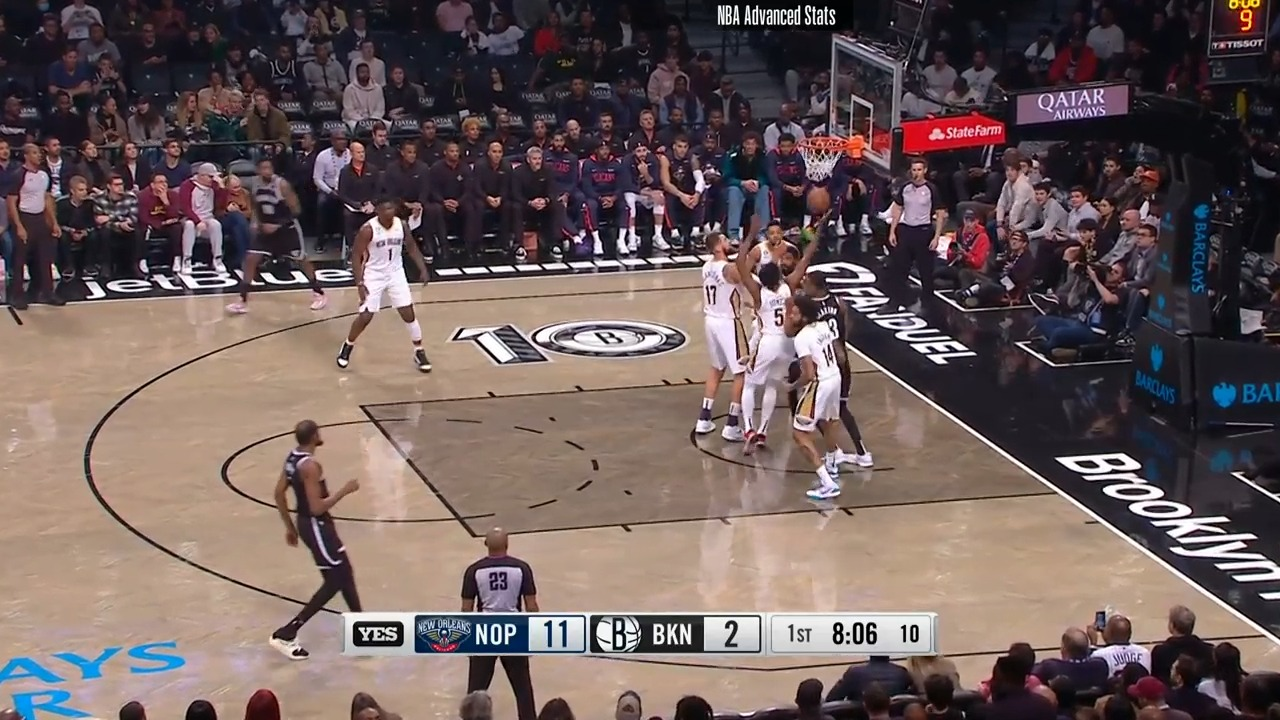net: (798, 128, 869, 187)
player: (264, 410, 373, 652), (340, 201, 438, 379), (231, 155, 330, 318), (695, 229, 761, 441), (805, 269, 873, 472), (732, 253, 800, 444), (787, 294, 847, 506), (739, 223, 811, 294)
referee: (456, 522, 545, 720), (882, 162, 942, 330), (4, 142, 62, 311)
